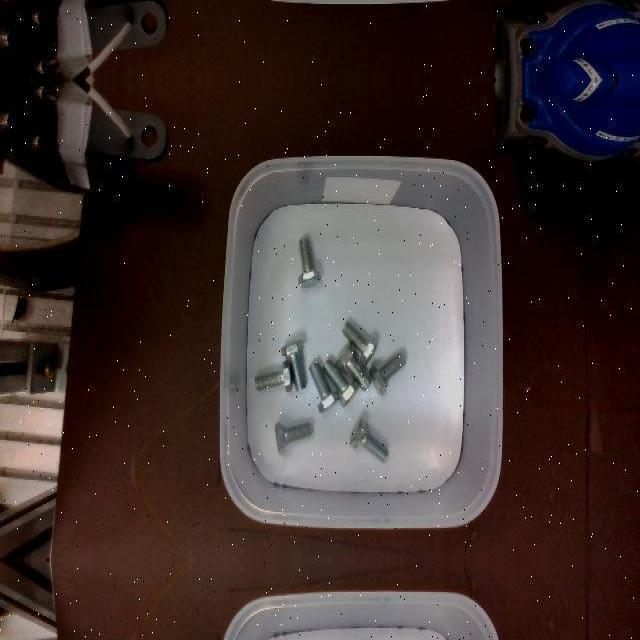screw: (323, 358, 360, 408), (350, 417, 389, 463), (336, 340, 371, 390), (370, 352, 407, 396), (309, 359, 339, 413), (342, 321, 377, 365), (281, 340, 306, 392), (274, 421, 312, 455), (254, 360, 292, 392), (297, 236, 321, 286)
